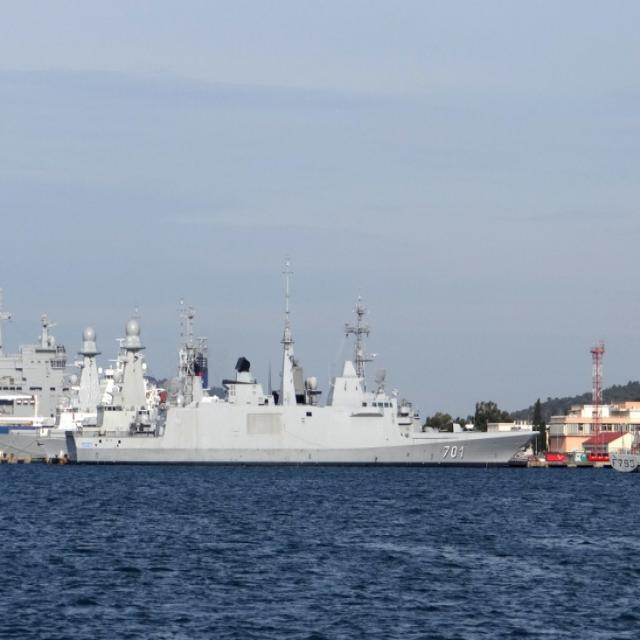Fragata: (61, 301, 543, 471)
